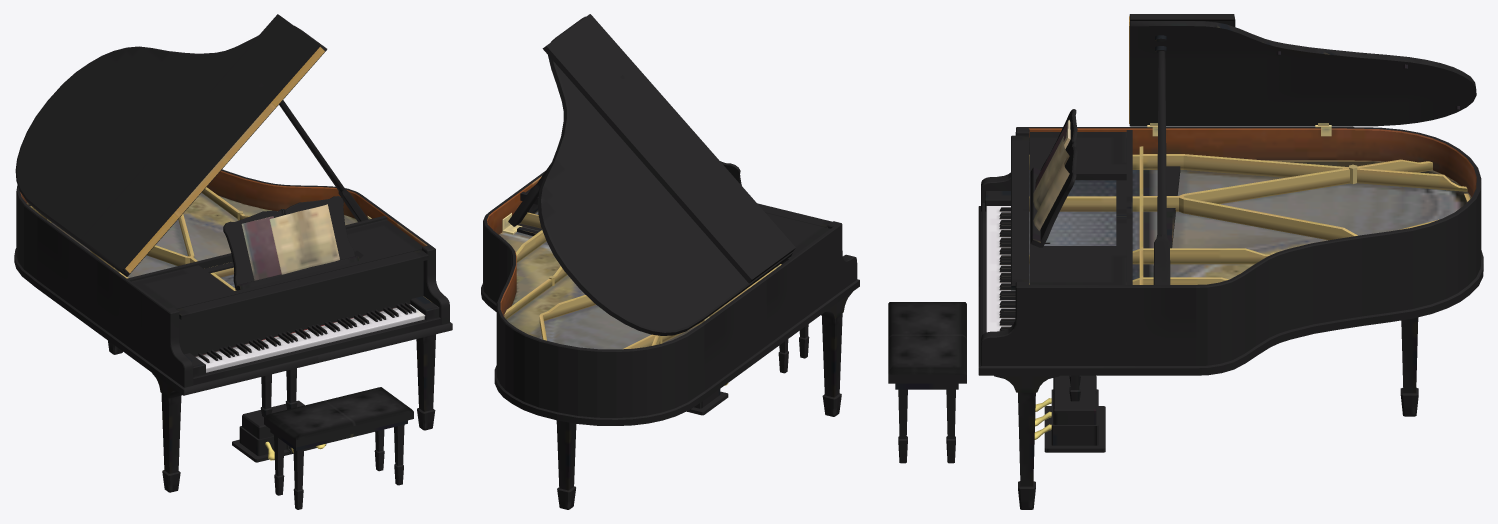
Rendered from fortepiano.gltf.
3 renders of one model, left to right at view 1: azimuth 30°, elevation 25°; view 2: azimuth 150°, elevation 25°; view 3: azimuth 270°, elevation 25°, orthographic. The views are drawn at different scales.
Visible parts, largest first — view 1: Piano; view 2: Piano; view 3: Piano.
Boxes of the visible parts, x1,y1,x2,y2 form: Piano: (14, 14, 452, 509); Piano: (481, 14, 859, 509); Piano: (888, 14, 1483, 509).
Bounding box in the file's own units: 2.15 × 2.82 × 3.34.
1 material, 1 textured.
